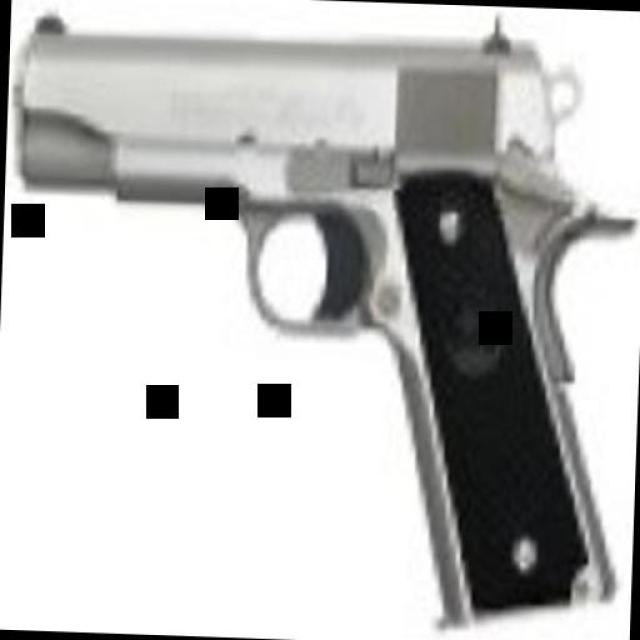gun: (0, 2, 636, 632)
